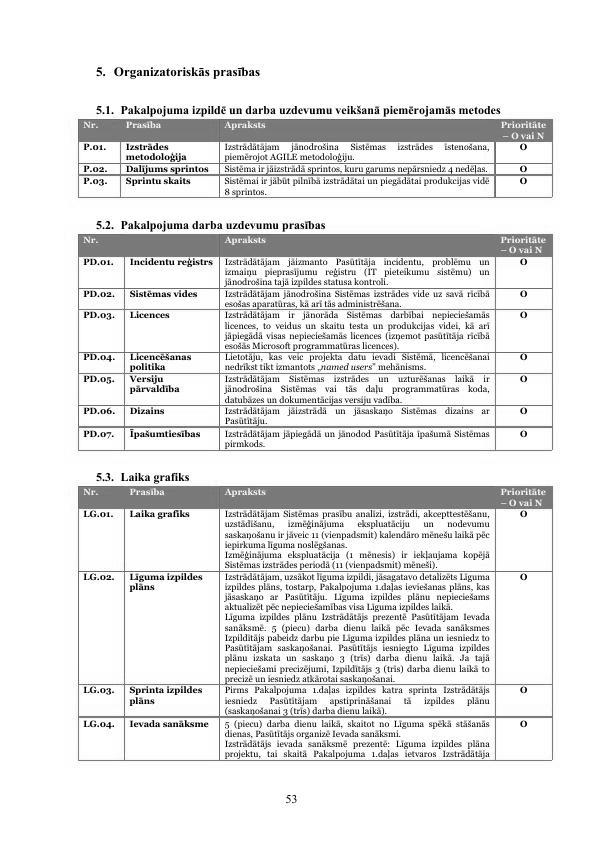table: (75, 487, 554, 765), (75, 234, 557, 455), (74, 116, 557, 202)
text: (92, 100, 504, 116), (91, 64, 269, 82), (92, 217, 325, 229), (93, 469, 192, 482)
